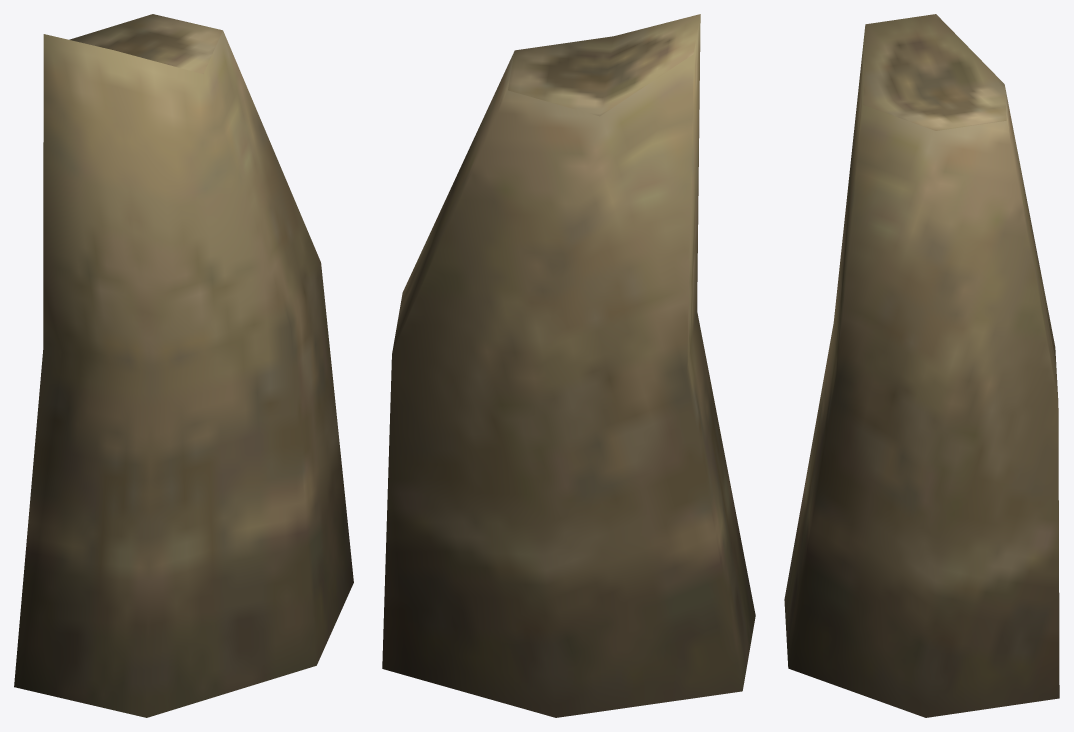
Rendered from environment_common_longgu_001_e.FBX.
3 renders of one model, left to right at view 1: azimuth 30°, elevation 25°; view 2: azimuth 150°, elevation 25°; view 3: azimuth 270°, elevation 25°, orthographic. The views are drawn at different scales.
Visible parts, largest first — view 1: environment_common_longgu_001_e; view 2: environment_common_longgu_001_e; view 3: environment_common_longgu_001_e.
Part boxes in pixels (x1,y1,x2,y2): environment_common_longgu_001_e: (14,14,353,717); environment_common_longgu_001_e: (382,14,755,717); environment_common_longgu_001_e: (784,14,1059,717).
Bounding box in the file's own units: 28.19 × 50.16 × 21.28.
